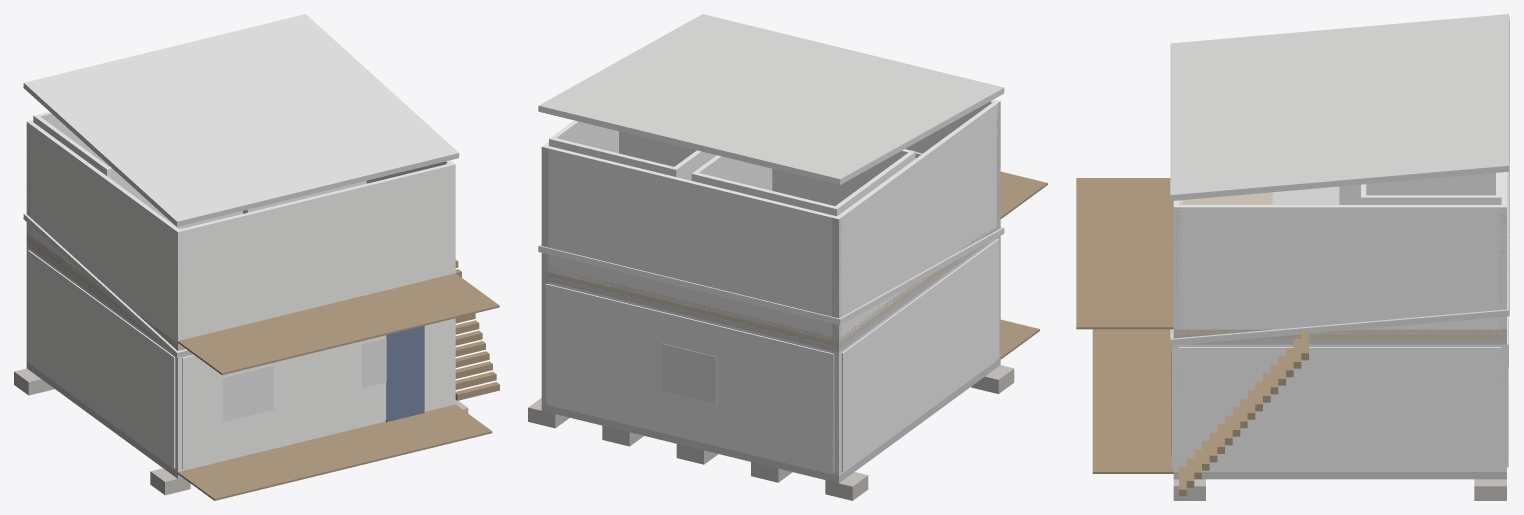
The model's file is Duplex-20-SlopingRoof-LOD2.glb.
3 renders of one model, left to right at view 1: azimuth 30°, elevation 25°; view 2: azimuth 150°, elevation 25°; view 3: azimuth 270°, elevation 25°, orthographic. The views are drawn at different scales.
Visible parts, largest first — view 1: RoofSlopingUpgrade.001, ExteriorShellUpper, ExteriorPanelsStandard, BalconyUpper, BalconyGround, WindowsStandard, EntryDoor, ExteriorShell, StaircaseExternal, BedroomUpper, FoundationBlocks, RoofSlopingUpgrade (+3 smaller); view 2: ExteriorShellUpper, ExteriorPanelsStandard, RoofSlopingUpgrade.001, BedroomUpper, StudyUpper, VerticalStructure, FoundationBlocks, FloorUpper, RoofSlopingUpgrade, BaseFrame, ExteriorShell, WindowsStandard (+3 smaller); view 3: RoofSlopingUpgrade.001, ExteriorShellUpper, ExteriorPanelsStandard, BalconyUpper, BalconyGround, RoofSlopingUpgrade, StaircaseExternal, StudyUpper, FloorUpper, ExteriorShell, BaseFrame, TopFrame (+2 smaller).
Part boxes in pixels (x1,y1,x2,y2): RoofSlopingUpgrade.001: (23, 14, 459, 226); ExteriorShellUpper: (26, 120, 455, 346); ExteriorPanelsStandard: (28, 250, 451, 469); BalconyUpper: (178, 273, 499, 374); BalconyGround: (178, 404, 492, 500); WindowsStandard: (222, 337, 386, 421); EntryDoor: (385, 326, 424, 422); ExteriorShell: (26, 246, 455, 471); StaircaseExternal: (455, 259, 499, 400); BedroomUpper: (33, 112, 242, 228); FoundationBlocks: (14, 368, 468, 495); RoofSlopingUpgrade: (23, 213, 192, 357); ExteriorShellUpper: (541, 99, 1000, 342); ExteriorPanelsStandard: (545, 238, 999, 473); RoofSlopingUpgrade.001: (538, 14, 1004, 184); BedroomUpper: (691, 149, 915, 216); StudyUpper: (549, 120, 716, 180); VerticalStructure: (541, 101, 1000, 475); FoundationBlocks: (528, 365, 1014, 500); FloorUpper: (548, 227, 996, 347); RoofSlopingUpgrade: (538, 227, 1004, 325); BaseFrame: (541, 358, 1000, 483); ExteriorShell: (548, 237, 998, 475); WindowsStandard: (662, 343, 716, 404); RoofSlopingUpgrade.001: (1170, 14, 1509, 200); ExteriorShellUpper: (1173, 172, 1506, 334); ExteriorPanelsStandard: (1172, 316, 1508, 470); BalconyUpper: (1076, 178, 1173, 329); BalconyGround: (1092, 329, 1173, 473); RoofSlopingUpgrade: (1170, 171, 1509, 345); StaircaseExternal: (1179, 330, 1308, 496); StudyUpper: (1361, 172, 1501, 204); FloorUpper: (1173, 192, 1506, 339); ExteriorShell: (1173, 344, 1506, 471); BaseFrame: (1173, 472, 1506, 479); TopFrame: (1185, 339, 1506, 344).
Bounding box in the file's own units: 7.94 × 6.72 × 8.01.
